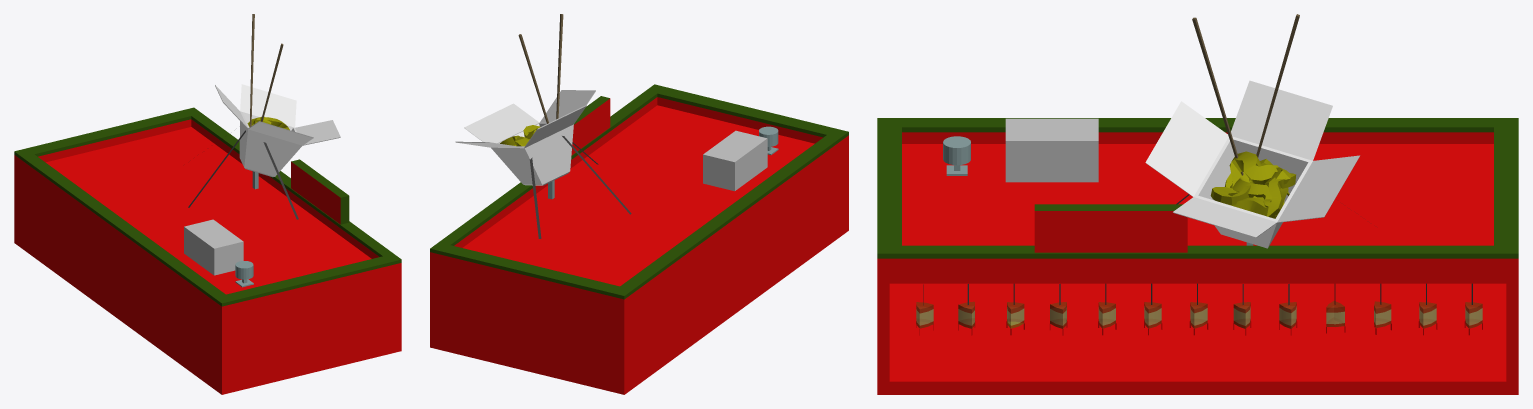
The model's file is Envi_Rest_003_Chinese.fbx.
3 views of the same model, side by side, from view 1: azimuth 30°, elevation 25°; view 2: azimuth 150°, elevation 25°; view 3: azimuth 270°, elevation 25° (orthographic). The views are drawn at different scales.
Parts seen in each view (by area): view 1: chinese_place, big_venterlation, noodle_box, store_front_sign, noodle_box_flap4, noodle_box_flap1, noodle_box_flap2; view 2: chinese_place, big_venterlation, noodle_box, noodle_box_flap2, store_front_sign, noodle_box_flap1, noodle_box_flap3, noodles, chop_stick_1; view 3: chinese_place, store_front_sign, big_venterlation, noodle_box_flap3, noodle_box_flap1, noodles, noodle_box, noodle_box_flap4, noodle_box_flap2, small_vvent_top, chop_stick_1, chop_stick_2.
Part boxes in pixels (<box>): chinese_place: <box>14,107,401,394</box>; big_venterlation: <box>184,219,243,275</box>; noodle_box: <box>239,111,302,177</box>; store_front_sign: <box>291,159,349,224</box>; noodle_box_flap4: <box>240,84,296,127</box>; noodle_box_flap1: <box>248,121,313,145</box>; noodle_box_flap2: <box>295,120,340,145</box>; chinese_place: <box>430,84,848,394</box>; big_venterlation: <box>703,130,767,191</box>; noodle_box: <box>491,122,573,185</box>; noodle_box_flap2: <box>464,103,539,143</box>; store_front_sign: <box>571,96,610,155</box>; noodle_box_flap1: <box>540,90,595,122</box>; noodle_box_flap3: <box>524,105,586,147</box>; noodles: <box>500,125,540,146</box>; chop_stick_1: <box>556,14,563,119</box>; chinese_place: <box>877,118,1518,394</box>; store_front_sign: <box>1034,204,1187,252</box>; big_venterlation: <box>1005,118,1098,182</box>; noodle_box_flap3: <box>1231,80,1332,160</box>; noodle_box_flap1: <box>1145,101,1228,196</box>; noodles: <box>1210,151,1295,218</box>; noodle_box: <box>1194,136,1312,248</box>; noodle_box_flap4: <box>1277,155,1360,222</box>; noodle_box_flap2: <box>1173,197,1276,237</box>; small_vvent_top: <box>943,136,970,165</box>; chop_stick_1: <box>1192,17,1243,175</box>; chop_stick_2: <box>1256,14,1299,157</box>.
Bounding box in the file's own units: 909 × 894 × 1400.
